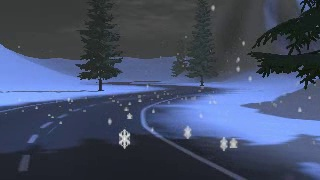Lane: (1, 84, 242, 179)
